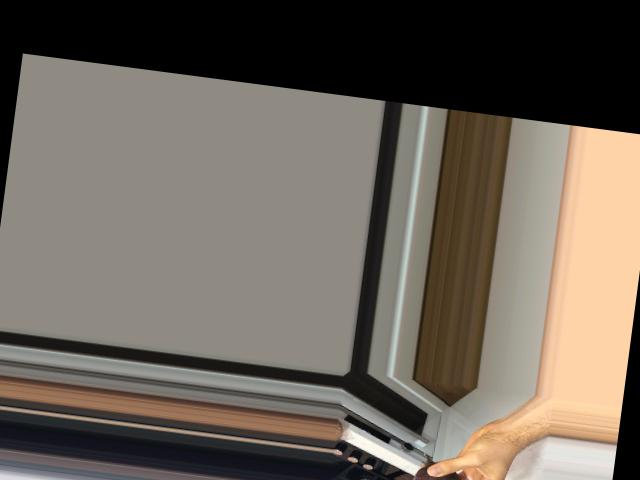beet: (410, 451, 479, 480)
